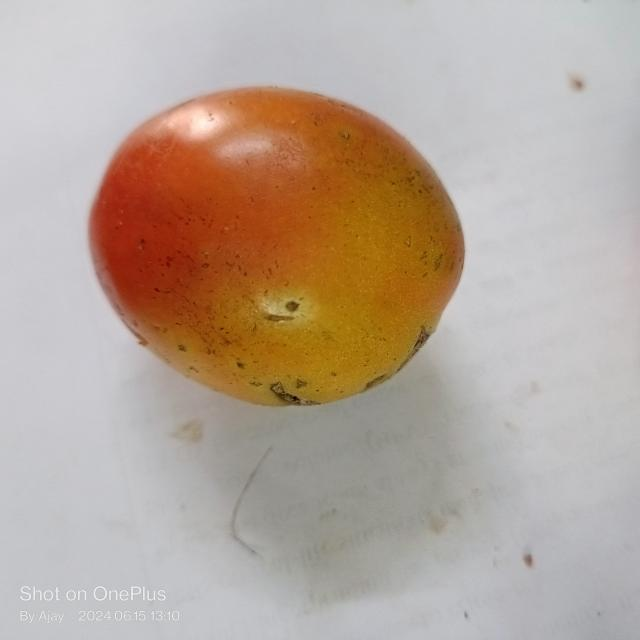Bacterial_Spot: (266, 378, 310, 408), (279, 289, 310, 317)
